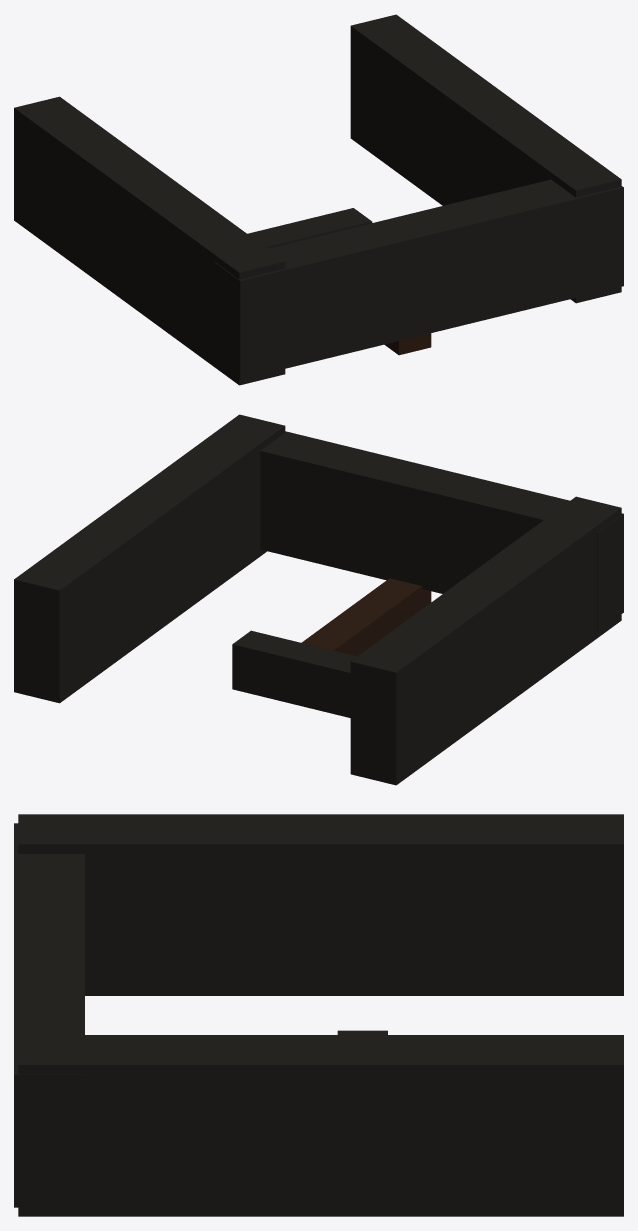
File: SM_IsengardHoistFrame.obj
The picture shows the model from 3 angles, top to bottom: view 1: azimuth 30°, elevation 25°; view 2: azimuth 150°, elevation 25°; view 3: azimuth 270°, elevation 25°; orthographic projection. The views are drawn at different scales.
Visible parts, largest first — view 1: SM_IsengardHoistFrame; view 2: SM_IsengardHoistFrame; view 3: SM_IsengardHoistFrame.
Part boxes in pixels (box(x1,y1,x2,y2)): SM_IsengardHoistFrame: box(14, 14, 623, 385); SM_IsengardHoistFrame: box(14, 414, 623, 785); SM_IsengardHoistFrame: box(14, 814, 623, 1216).
Bounding box in the file's own units: 285 × 101 × 292.
